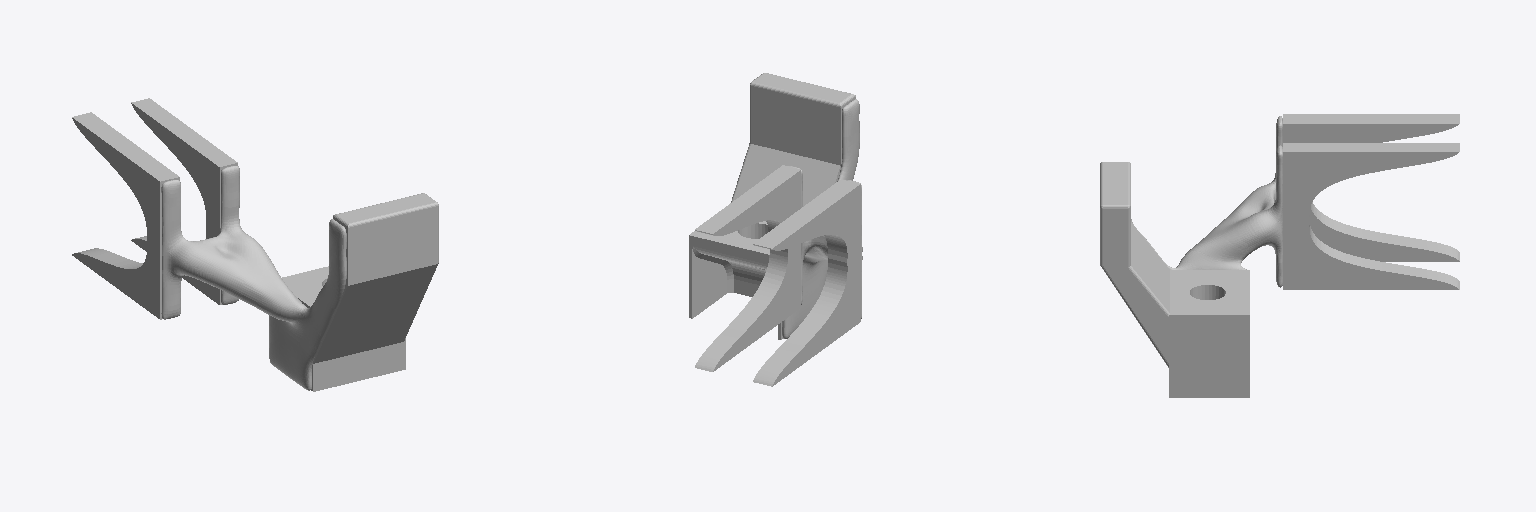
The model's file is gripper_modification_right_v3.obj.
3 renders of one model, left to right at view 1: azimuth 30°, elevation 25°; view 2: azimuth 150°, elevation 25°; view 3: azimuth 270°, elevation 25°, orthographic.
Parts seen in each view (by area): view 1: Greifer_v3_rechts; view 2: Greifer_v3_rechts; view 3: Greifer_v3_rechts.
Part boxes in pixels (x1,y1,x2,y2): Greifer_v3_rechts: (72, 98, 438, 391); Greifer_v3_rechts: (689, 73, 862, 386); Greifer_v3_rechts: (1100, 114, 1459, 397).
Size of the model in its own units: 35.73 by 34.79 by 59.03.